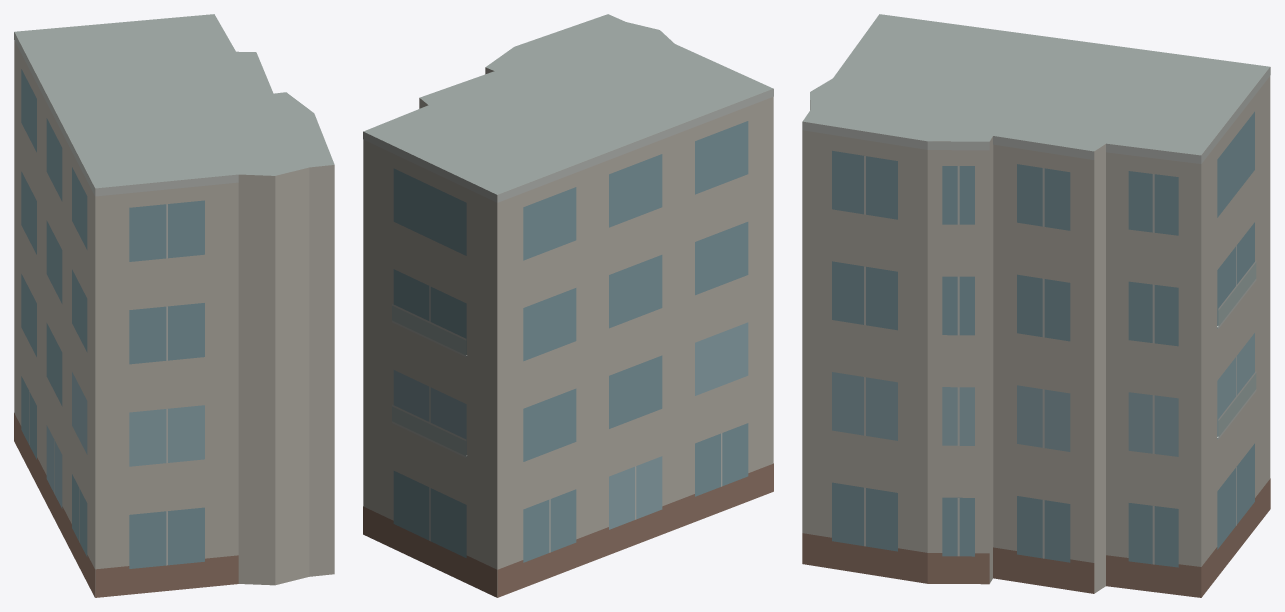
Rendered from survey-upis-32464960.glb.
3 views of the same model, side by side, from view 1: azimuth 30°, elevation 25°; view 2: azimuth 150°, elevation 25°; view 3: azimuth 270°, elevation 25° (orthographic). The views are drawn at different scales.
Visible parts, largest first — view 1: survey-upis-32464960.tmp; view 2: survey-upis-32464960.tmp; view 3: survey-upis-32464960.tmp.
Part boxes in pixels (bbox=[...]): survey-upis-32464960.tmp: bbox=[14, 14, 334, 597]; survey-upis-32464960.tmp: bbox=[363, 14, 773, 597]; survey-upis-32464960.tmp: bbox=[802, 14, 1270, 597].
Bounding box in the file's own units: 8.51 × 12.4 × 11.89.
